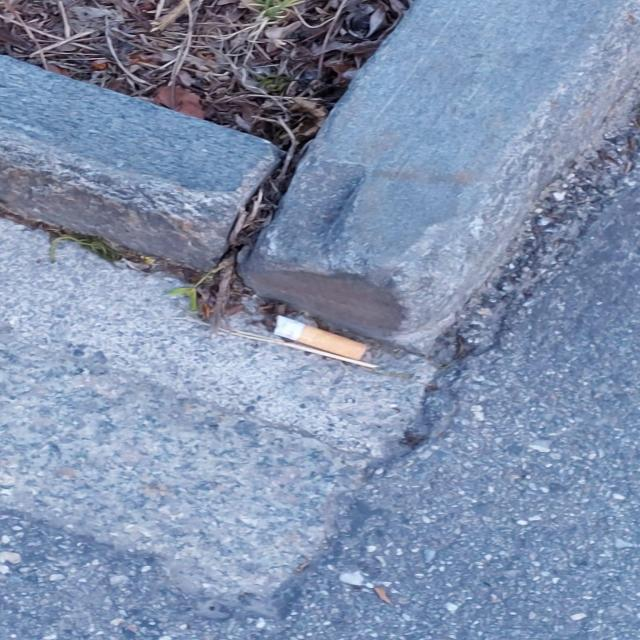other waste: (266, 315, 368, 361)
